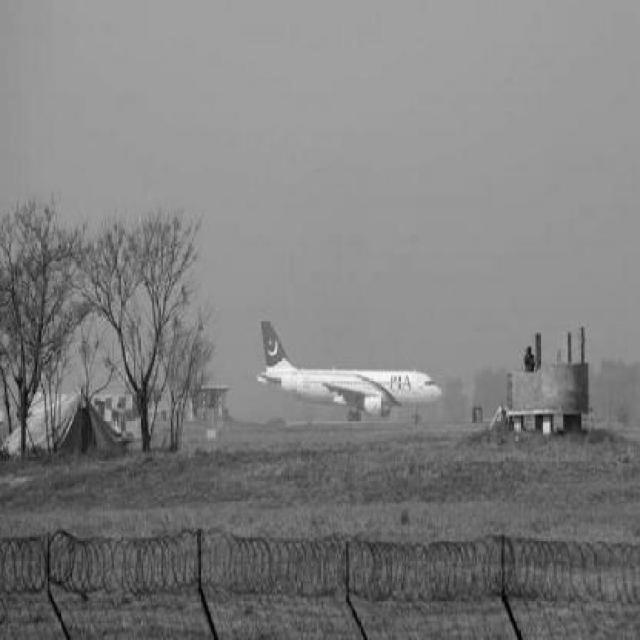aeroplane: (251, 312, 446, 440)
